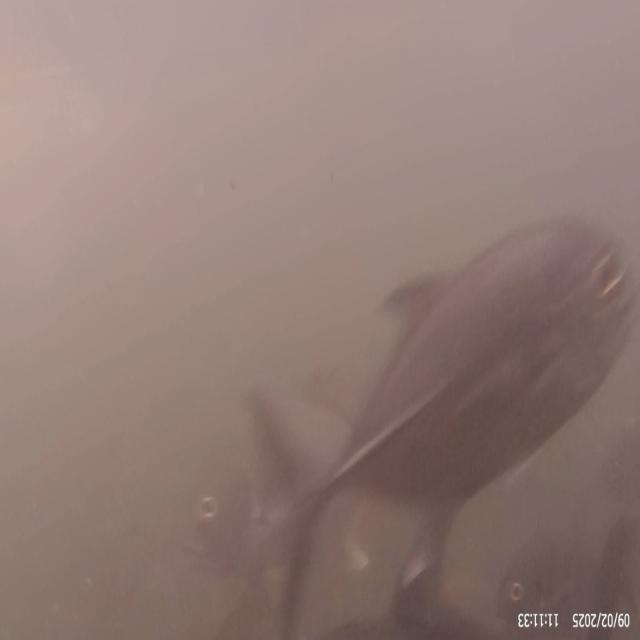ikan: (240, 190, 628, 582)
